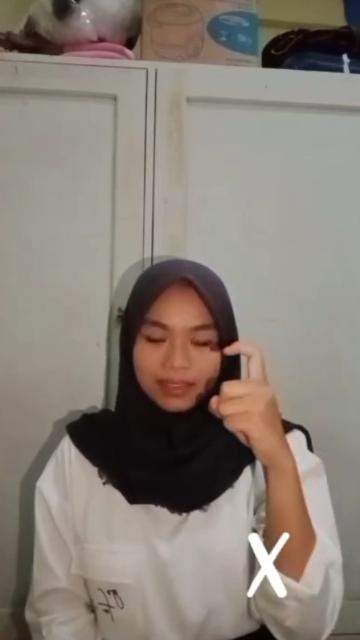X: (203, 342, 295, 468)
